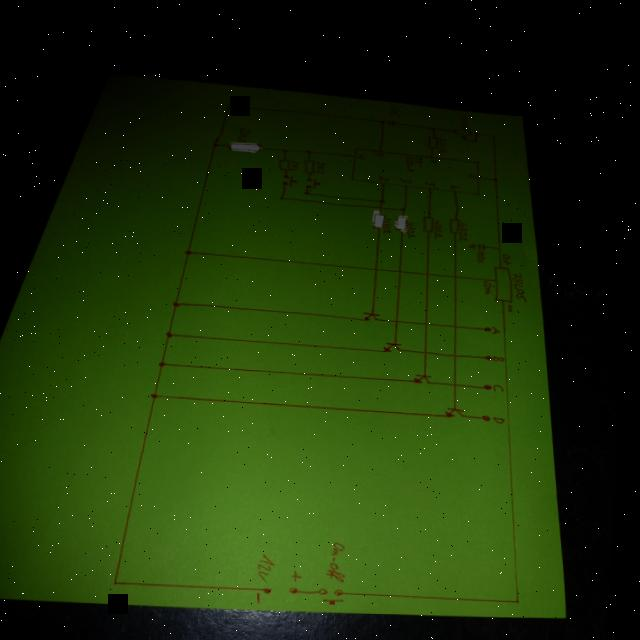capacitor: (388, 118, 398, 126), (479, 242, 490, 249)
crossover: (425, 320, 434, 326), (396, 317, 404, 323), (425, 349, 433, 355), (455, 352, 463, 358), (454, 323, 462, 329), (375, 266, 383, 272), (455, 381, 463, 387), (427, 270, 434, 276), (455, 273, 462, 279), (380, 204, 386, 208), (399, 268, 405, 272)
ground: (470, 241, 479, 249)
junction: (161, 360, 172, 368), (168, 330, 178, 338), (154, 392, 164, 399), (186, 248, 196, 254), (212, 140, 222, 146), (379, 197, 389, 203), (175, 301, 183, 308), (118, 579, 126, 586), (282, 147, 291, 153), (226, 102, 234, 108), (401, 205, 409, 211), (520, 598, 528, 604), (281, 194, 288, 200), (495, 175, 501, 181), (305, 190, 313, 194), (432, 126, 439, 130), (307, 148, 314, 152), (381, 119, 387, 123), (474, 138, 480, 142), (475, 130, 481, 134), (492, 133, 498, 137), (500, 245, 504, 249)
resistor: (230, 141, 265, 152), (373, 212, 389, 228), (396, 214, 411, 230), (455, 128, 473, 141), (424, 215, 437, 231), (305, 157, 318, 173), (451, 217, 463, 233), (428, 135, 441, 149), (280, 158, 293, 171)
switch: (324, 587, 353, 606), (283, 173, 300, 187), (306, 176, 323, 188)
terminal: (293, 586, 308, 594), (268, 586, 280, 594), (485, 413, 496, 421), (486, 383, 498, 390), (486, 354, 497, 361), (486, 325, 496, 331)
text: (332, 541, 354, 581), (512, 271, 532, 301), (262, 554, 282, 582), (406, 153, 425, 172), (239, 125, 253, 142), (435, 219, 446, 237), (459, 113, 471, 129), (409, 221, 420, 237), (440, 137, 451, 152), (462, 222, 471, 240), (385, 217, 395, 233), (478, 249, 489, 262), (485, 279, 495, 293), (389, 104, 402, 114), (318, 160, 328, 173), (505, 252, 515, 264), (496, 415, 511, 423), (292, 159, 302, 171), (497, 382, 509, 391), (511, 303, 523, 311), (496, 354, 508, 361), (402, 176, 414, 183), (379, 174, 391, 181), (451, 183, 464, 189), (426, 180, 438, 186), (430, 157, 441, 163), (496, 325, 504, 333), (357, 153, 367, 159), (469, 172, 479, 178), (376, 151, 386, 157)
transistor: (448, 406, 471, 418), (415, 372, 438, 384), (385, 340, 408, 352), (366, 310, 384, 320)
